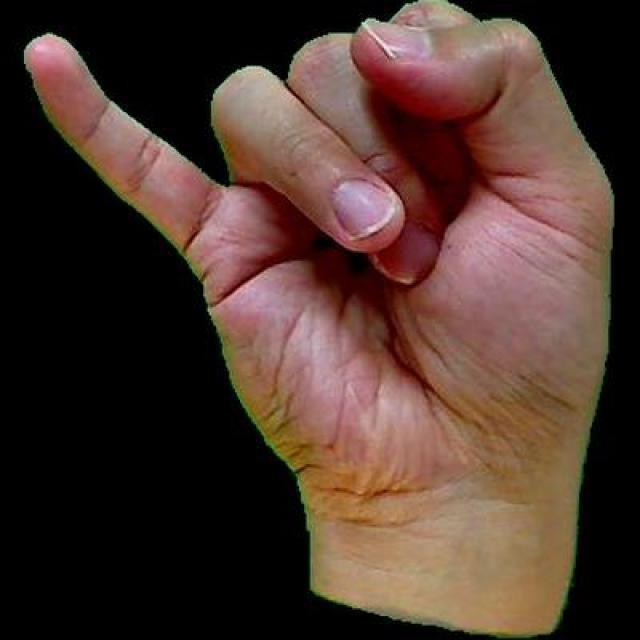j: (0, 0, 616, 637)
